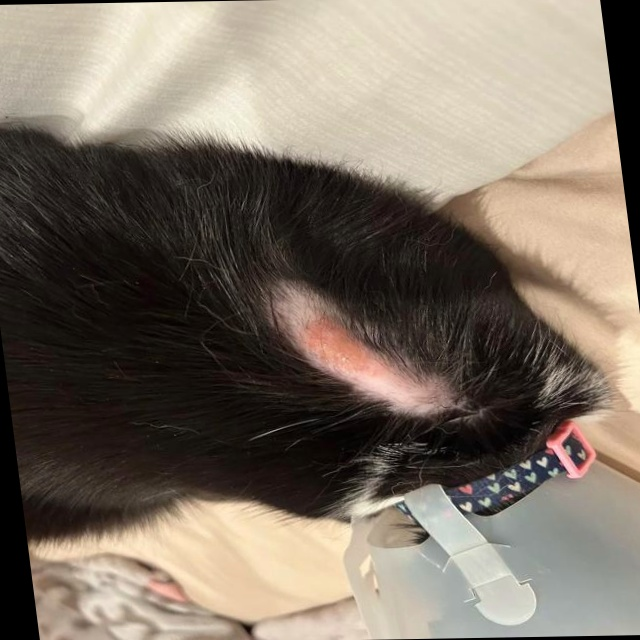hairloss: (282, 287, 457, 426)
